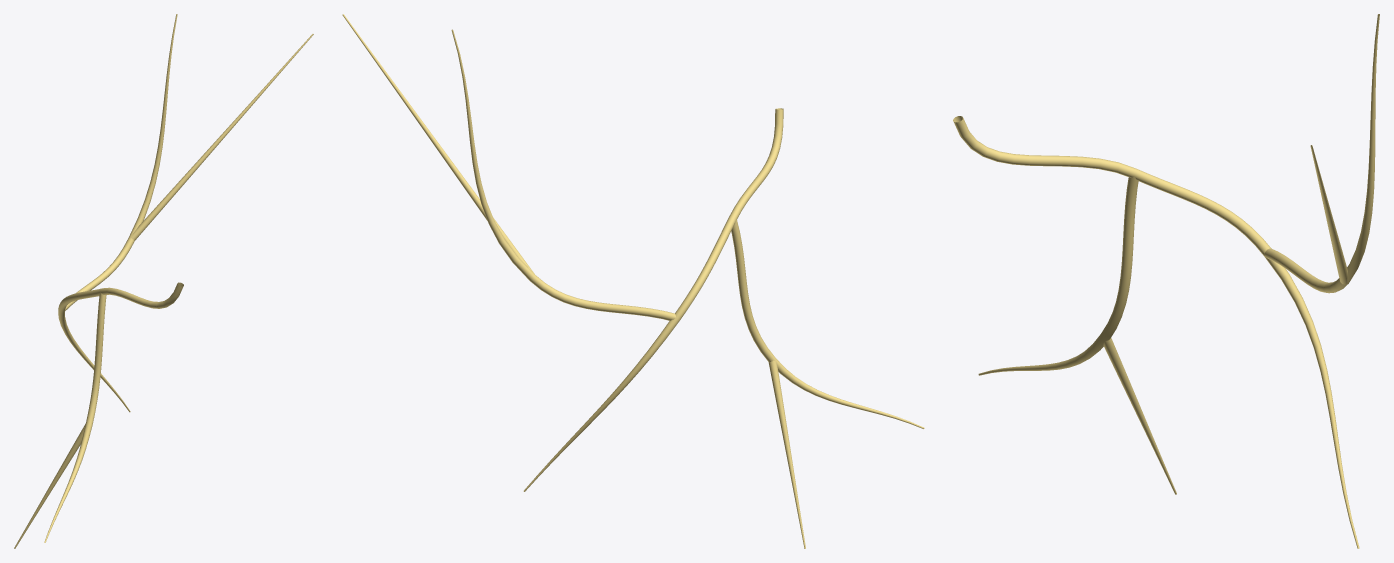
3 views of the same model, side by side, from view 1: azimuth 30°, elevation 25°; view 2: azimuth 150°, elevation 25°; view 3: azimuth 270°, elevation 25° (orthographic). The views are drawn at different scales.
Visible parts, largest first — view 1: ZA_f4e81f92c45a0112; view 2: ZA_f4e81f92c45a0112; view 3: ZA_f4e81f92c45a0112.
Boxes of the visible parts, bbox=[...] form: ZA_f4e81f92c45a0112: bbox=[14, 14, 313, 548]; ZA_f4e81f92c45a0112: bbox=[342, 14, 924, 548]; ZA_f4e81f92c45a0112: bbox=[953, 14, 1379, 548].
Size of the model in its own units: 0.062 by 0.0671 by 0.04.
